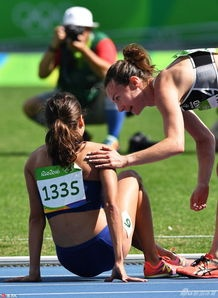falling: (9, 84, 211, 283)
